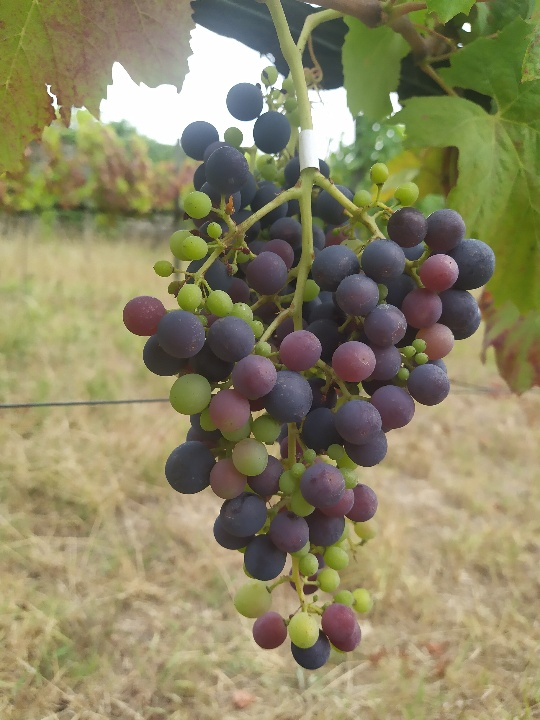grape: (122, 65, 498, 673)
